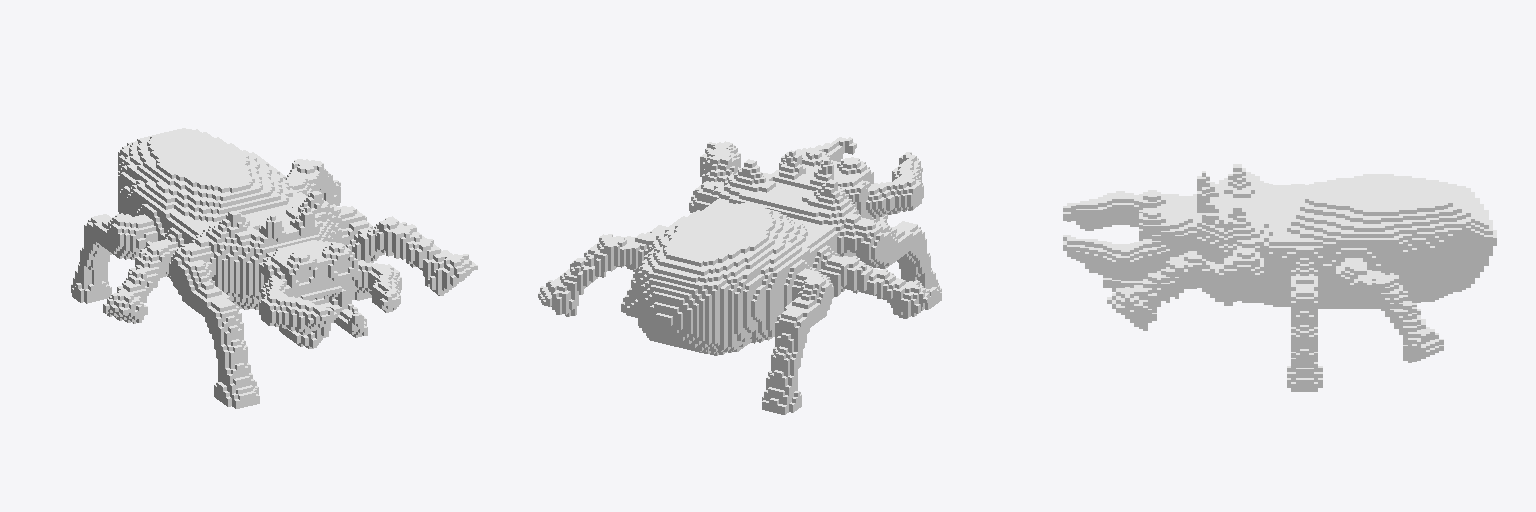
The model's file is beetle_walk_v1-4.obj.
3 renders of one model, left to right at view 1: azimuth 30°, elevation 25°; view 2: azimuth 150°, elevation 25°; view 3: azimuth 270°, elevation 25°, orthographic.
Visible parts, largest first — view 1: object 1; view 2: object 1; view 3: object 1.
Part boxes in pixels (left/top/right/bottom): object 1: left=71, top=128, right=477, bottom=408; object 1: left=538, top=137, right=941, bottom=414; object 1: left=1063, top=164, right=1496, bottom=391.
Bounding box in the file's own units: 8 × 3.6 × 9.7.